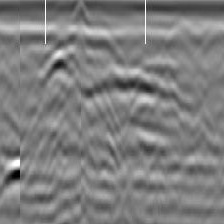Utility: (88, 70, 190, 114), (39, 52, 81, 96)
